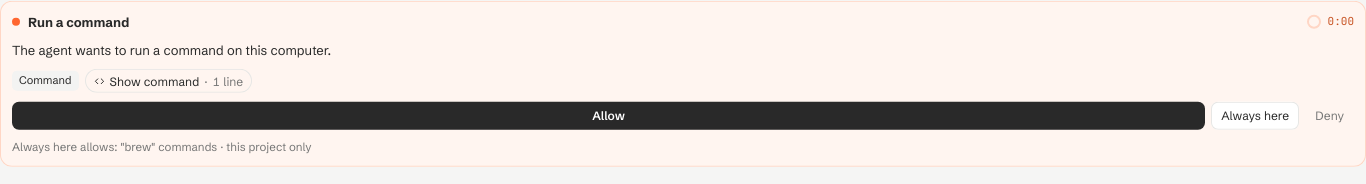
Scenario: ApprovalCard › Always here and Deny send their decisions
Click the button "Always here" at (1255, 116), box left=1211, top=102, right=1299, bottom=130
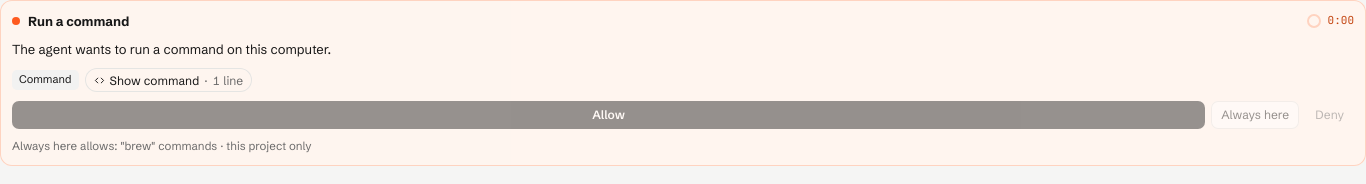
Result: the button "Deny" is disabled at left=1305, top=101, right=1354, bottom=129
